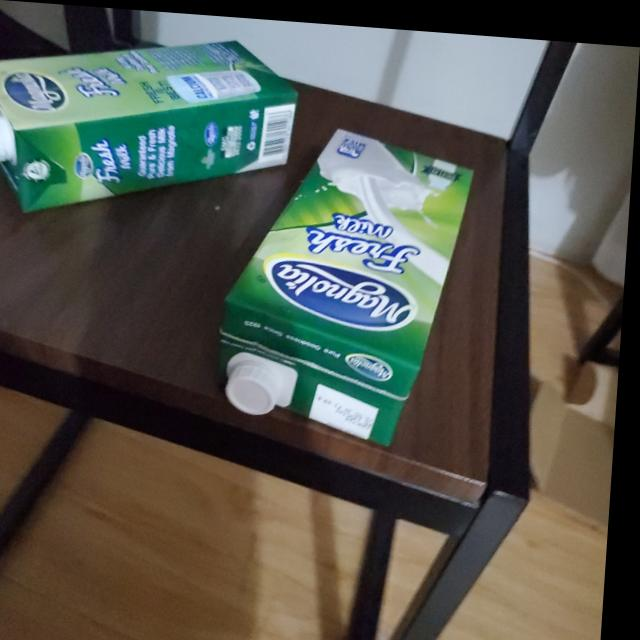milk: (215, 117, 482, 445), (0, 23, 308, 225)
